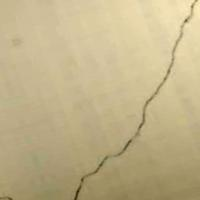crack: (72, 1, 195, 199)
